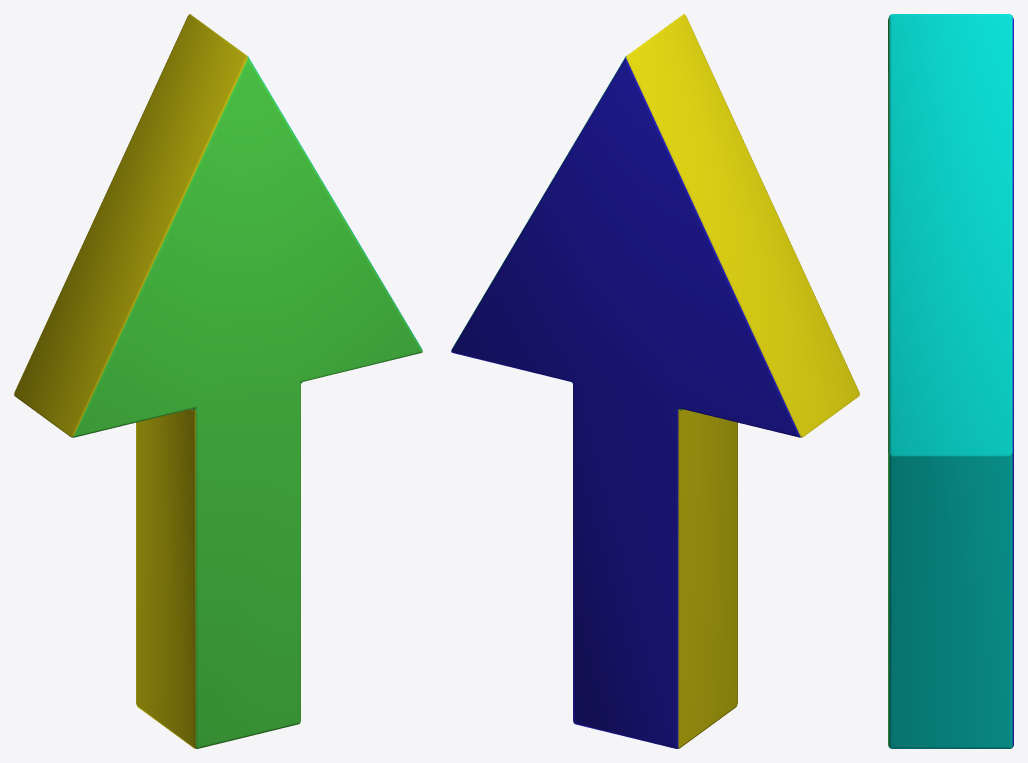
File: arrow.glb
The picture shows the model from 3 angles, left to right: view 1: azimuth 30°, elevation 25°; view 2: azimuth 150°, elevation 25°; view 3: azimuth 270°, elevation 25°; orthographic projection. The views are drawn at different scales.
Visible parts, largest first — view 1: Cube; view 2: Cube; view 3: Cube.
Part boxes in pixels (box(x1,y1,x2,y2)): Cube: box(14, 14, 422, 748); Cube: box(451, 14, 859, 748); Cube: box(888, 14, 1013, 748).
Bounding box in the file's own units: 1.08 × 2 × 0.3212.
